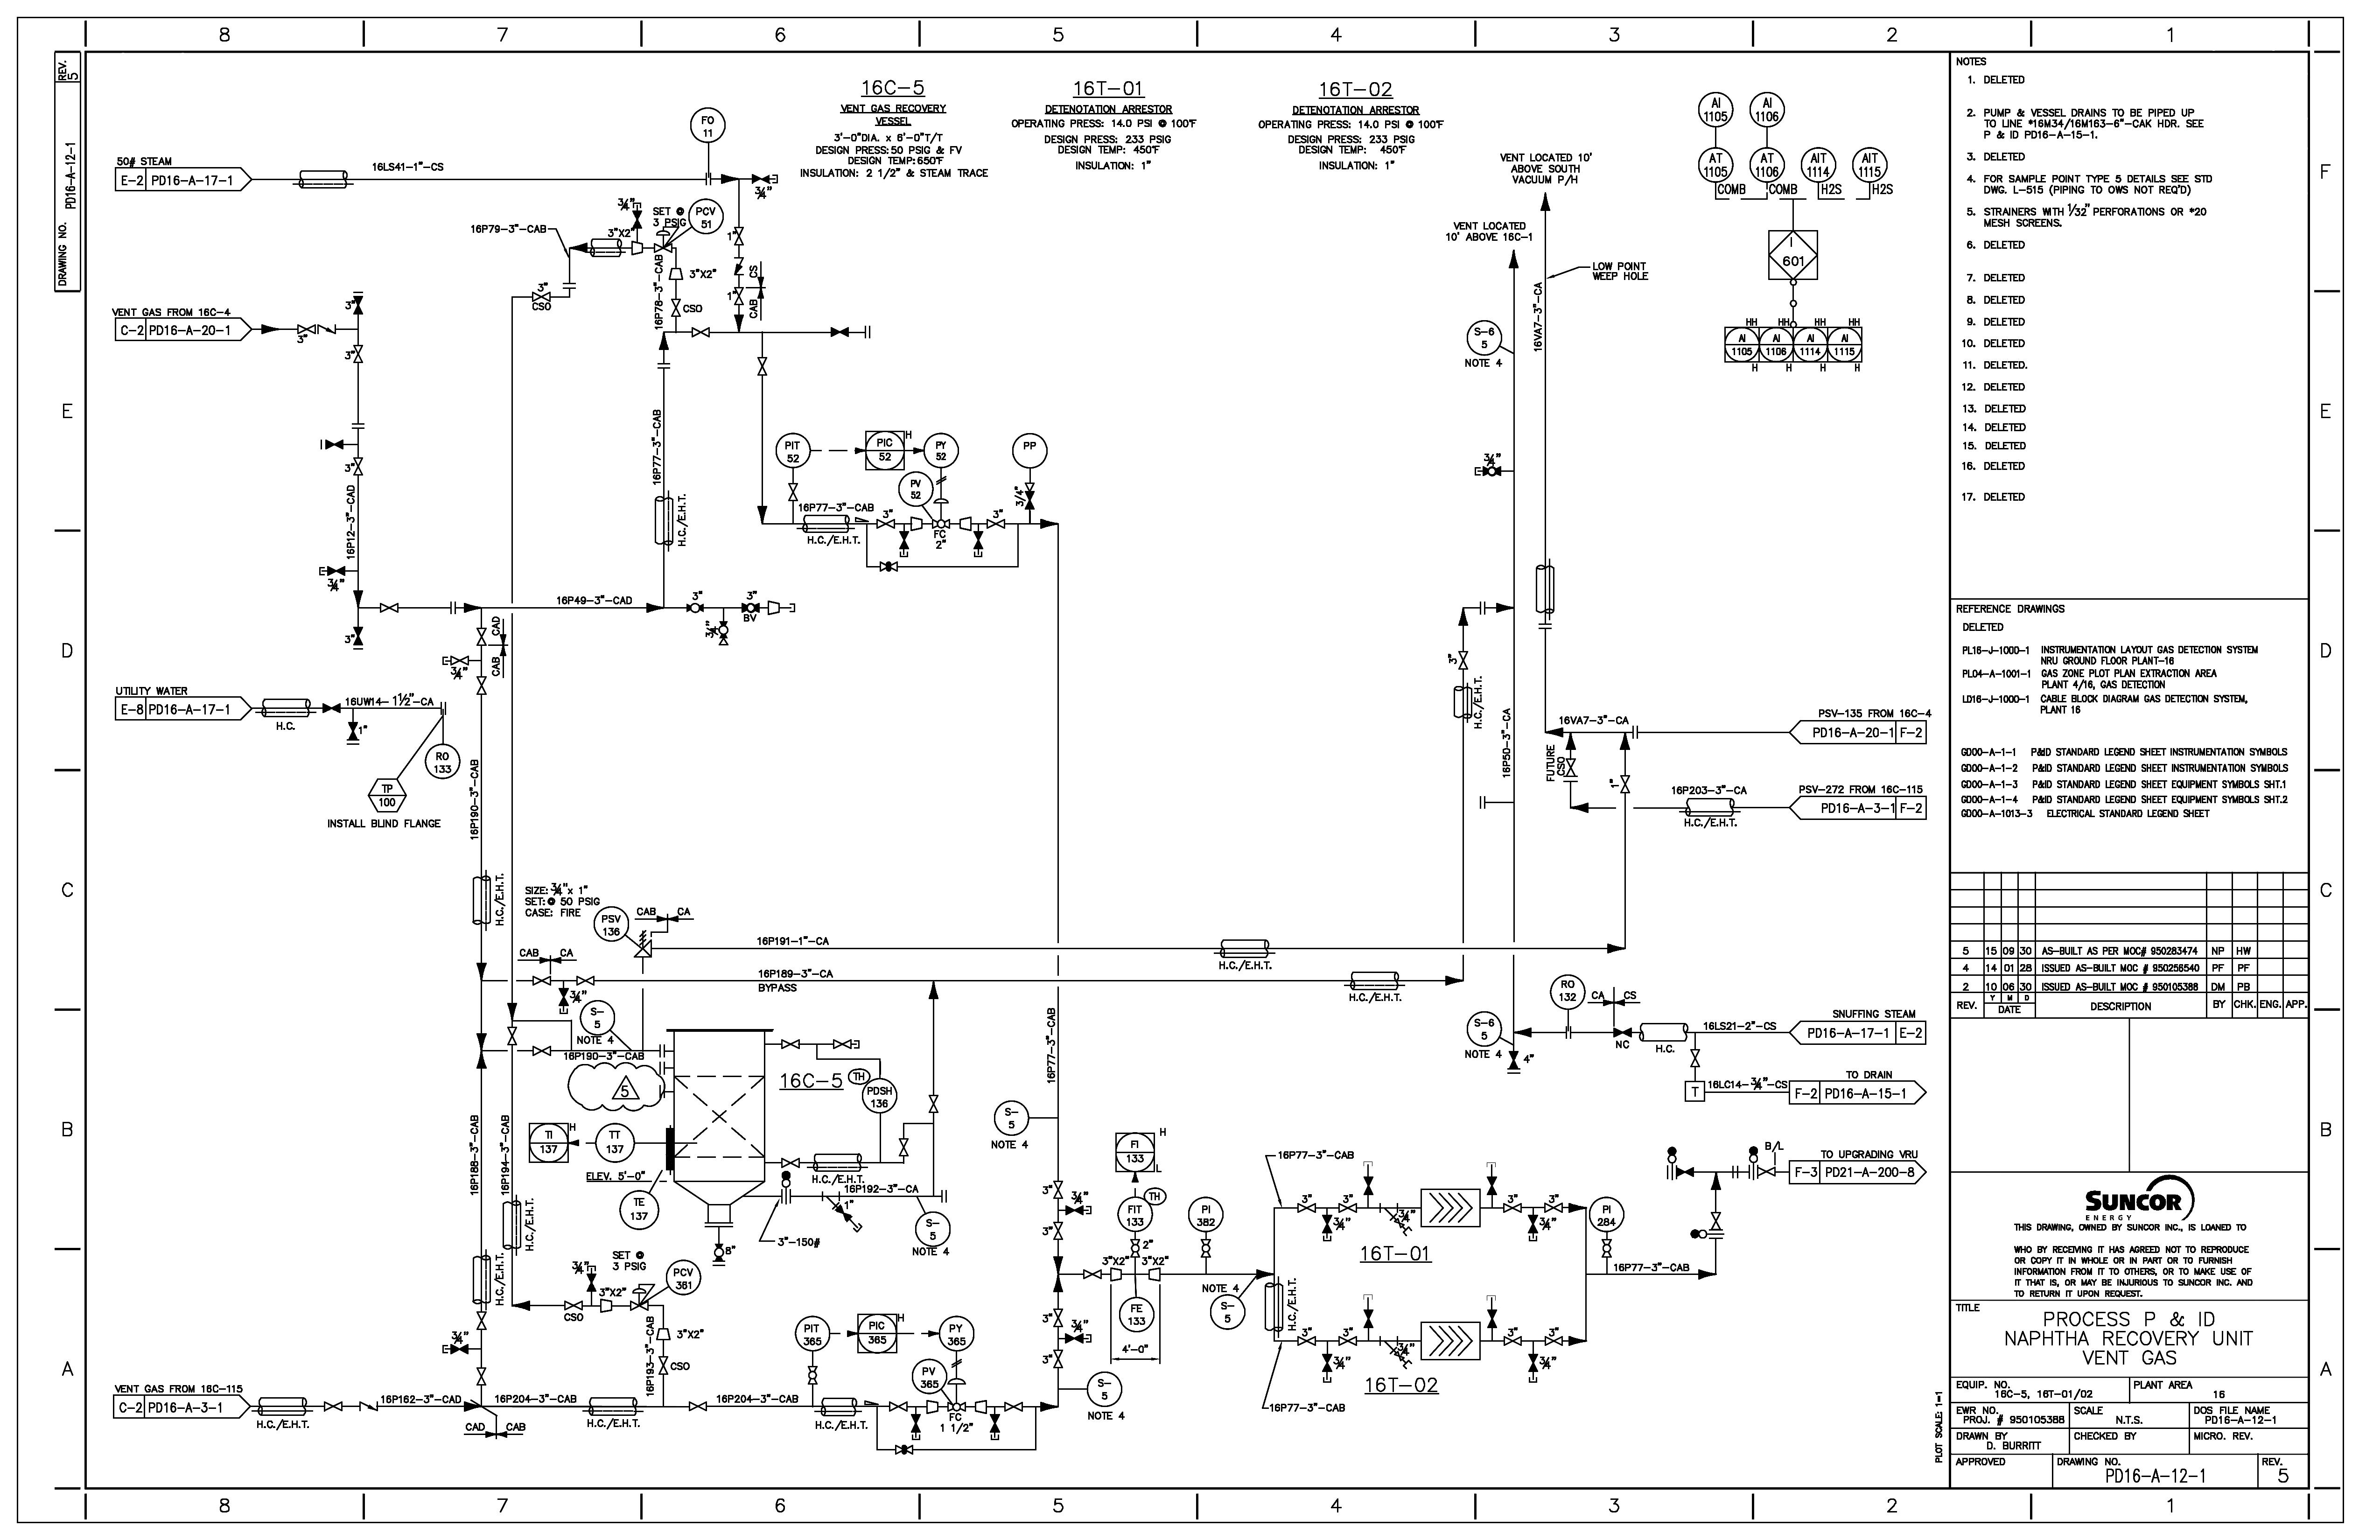Gate Valve: (573, 970, 598, 988), (530, 1041, 554, 1059), (778, 1037, 803, 1056), (686, 1399, 711, 1417), (1001, 1399, 1026, 1416), (378, 599, 403, 617), (321, 1397, 345, 1415), (1078, 1267, 1103, 1285), (1293, 1335, 1318, 1352), (1543, 1335, 1568, 1352), (529, 972, 554, 990), (829, 1035, 854, 1053), (887, 1398, 911, 1416), (1336, 1336, 1360, 1353), (1500, 1336, 1525, 1353)
